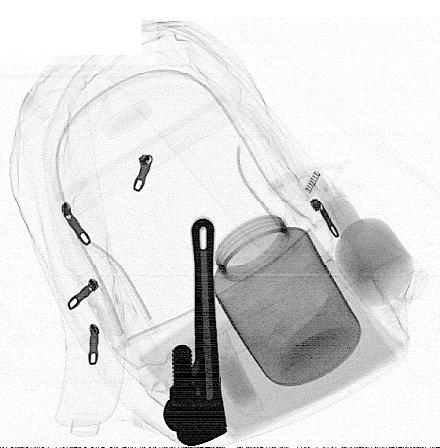Wrench: (162, 216, 228, 447)
